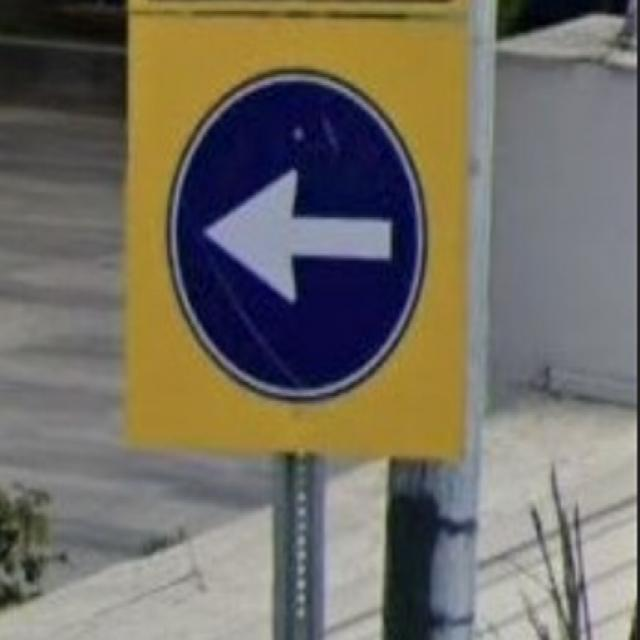Turn Left: (160, 73, 425, 407)
